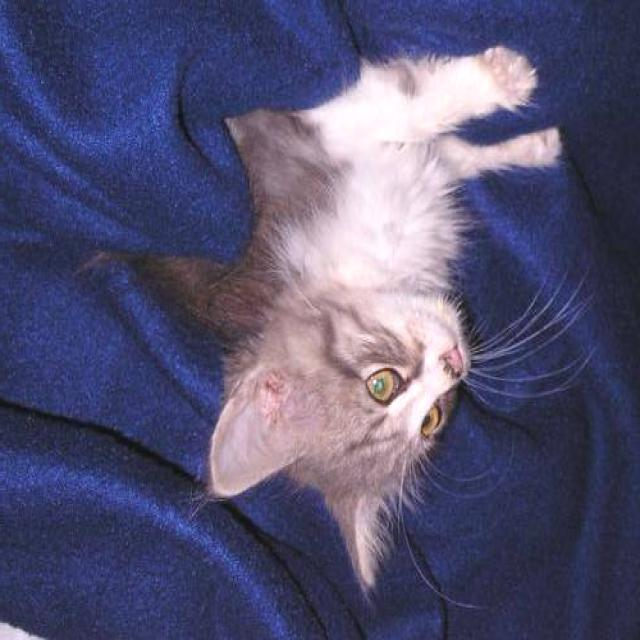Kucing: (191, 61, 516, 600)
